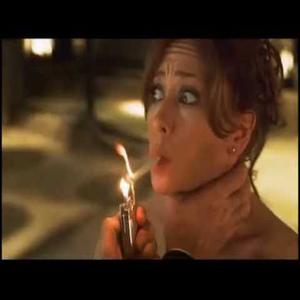cigarette: (128, 154, 162, 183)
